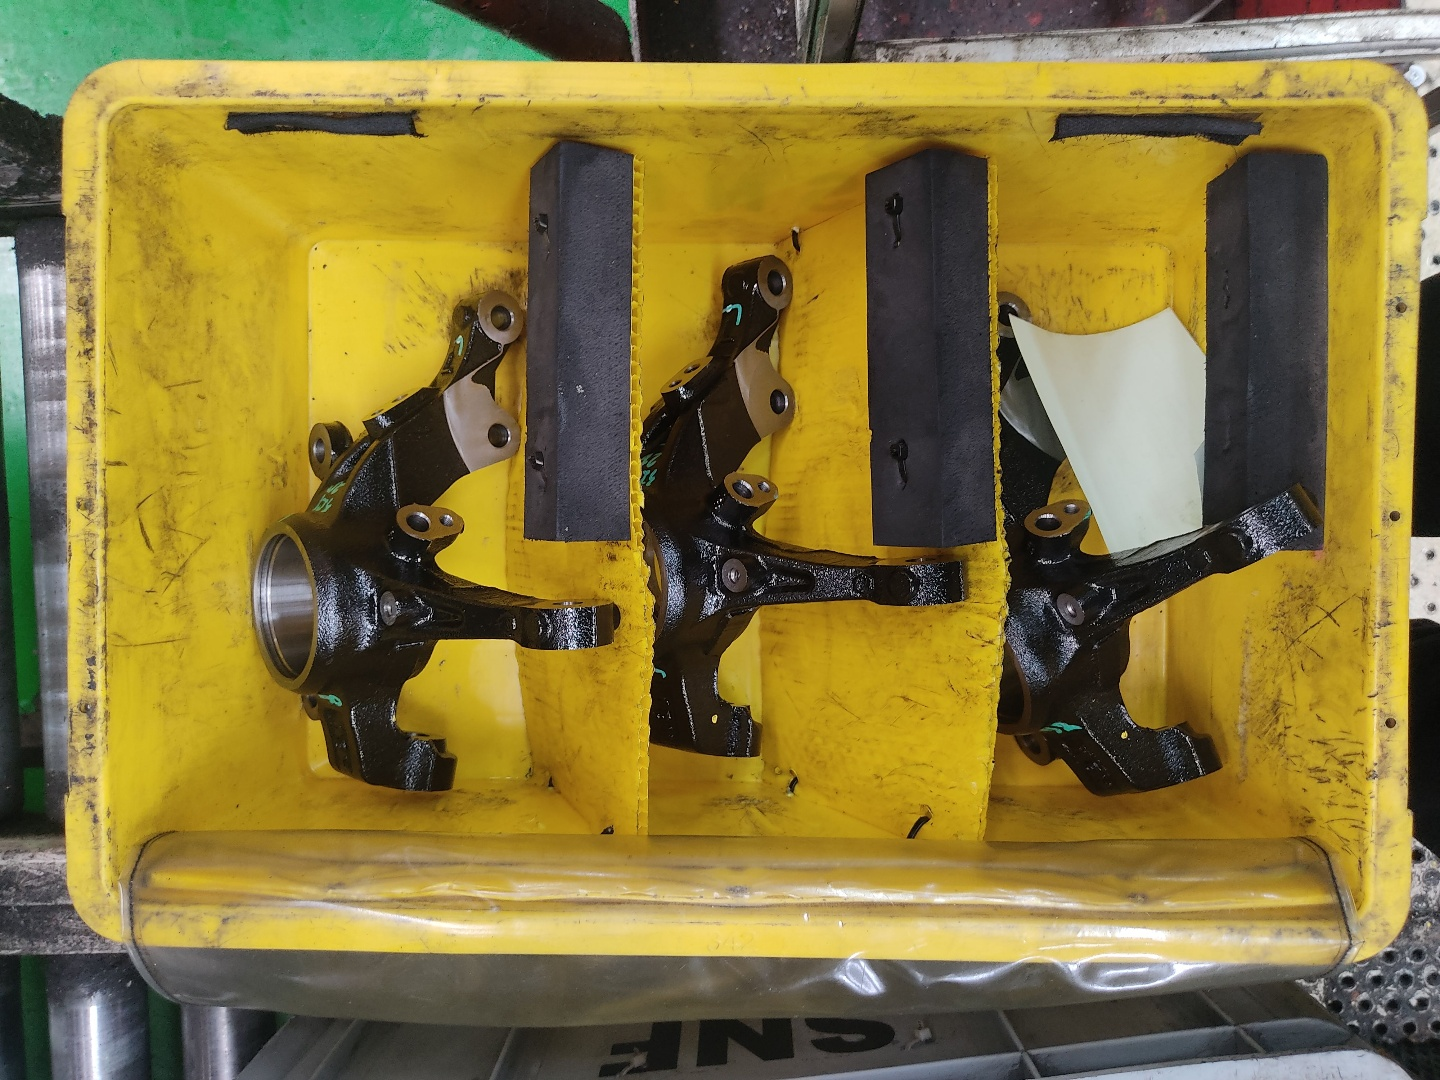abs-lh: (246, 284, 626, 803), (628, 248, 981, 770), (986, 278, 1328, 809)
